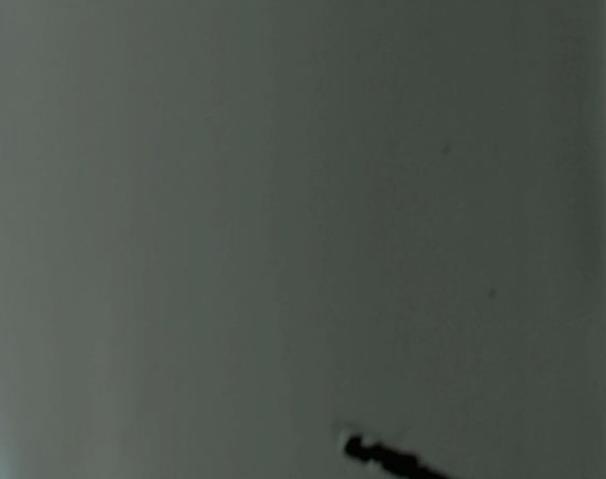fengxi: (334, 423, 479, 479)
